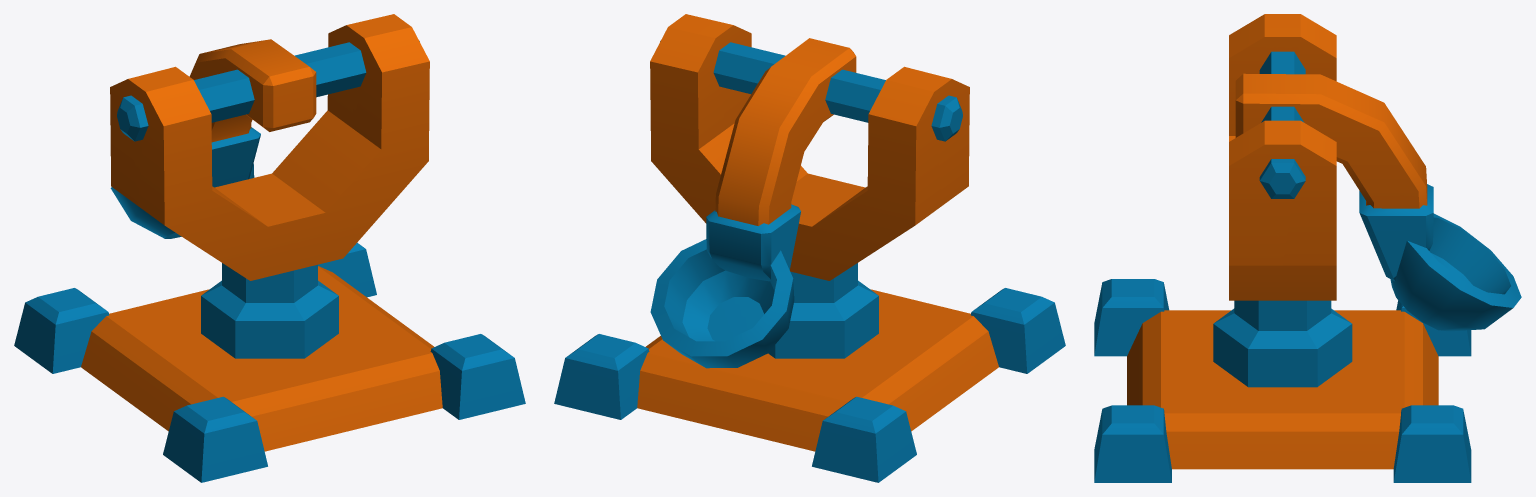
The model's file is Weapon_Catapult_Small_01.fbx.
3 renders of one model, left to right at view 1: azimuth 30°, elevation 25°; view 2: azimuth 150°, elevation 25°; view 3: azimuth 270°, elevation 25°, orthographic.
Parts seen in each view (by area): view 1: Weapon_Catapult_Small_01, Weapon_Catapult_Small_01_Arm; view 2: Weapon_Catapult_Small_01, Weapon_Catapult_Small_01_Arm; view 3: Weapon_Catapult_Small_01, Weapon_Catapult_Small_01_Arm.
Part boxes in pixels (left/top/right/bottom): Weapon_Catapult_Small_01: left=14, top=14, right=525, bottom=482; Weapon_Catapult_Small_01_Arm: left=110, top=39, right=316, bottom=238; Weapon_Catapult_Small_01: left=554, top=14, right=1065, bottom=482; Weapon_Catapult_Small_01_Arm: left=650, top=38, right=856, bottom=368; Weapon_Catapult_Small_01: left=1094, top=14, right=1471, bottom=482; Weapon_Catapult_Small_01_Arm: left=1235, top=73, right=1521, bottom=331.
Bounding box in the file's own units: 501 × 476 × 568.
